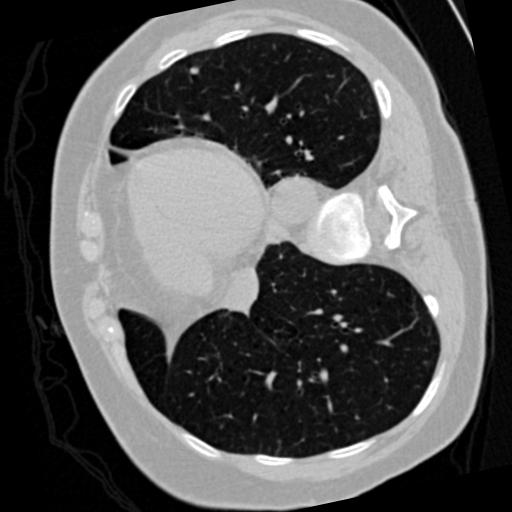nodule: (187, 64, 202, 79)
